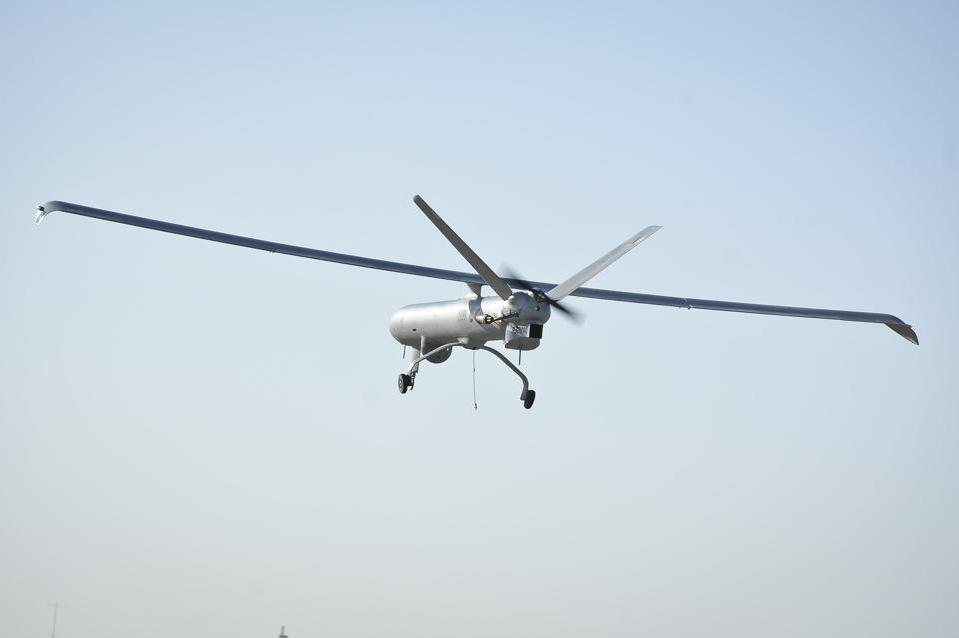Airplane: (30, 149, 924, 419)
